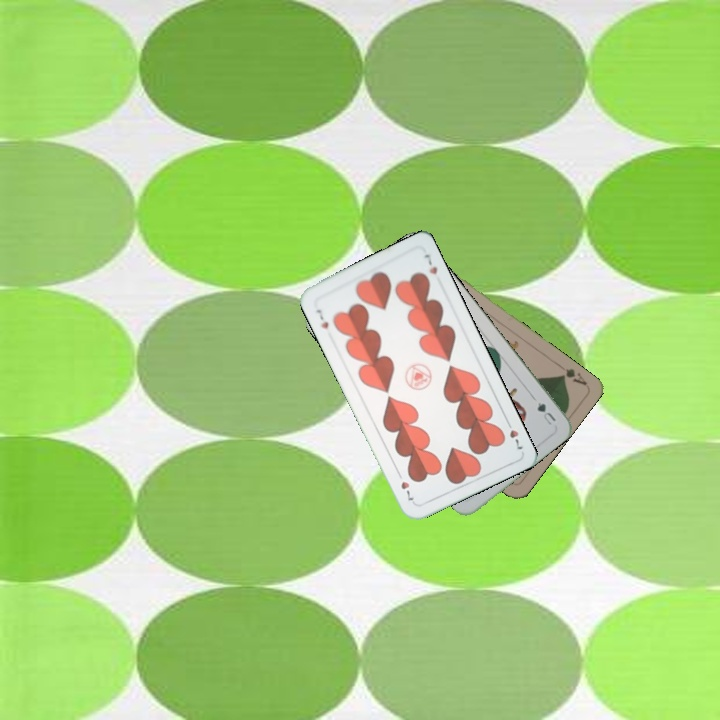GA: (557, 364, 590, 388)
GU: (533, 398, 559, 429)
H7: (502, 415, 525, 452), (312, 305, 331, 331)
